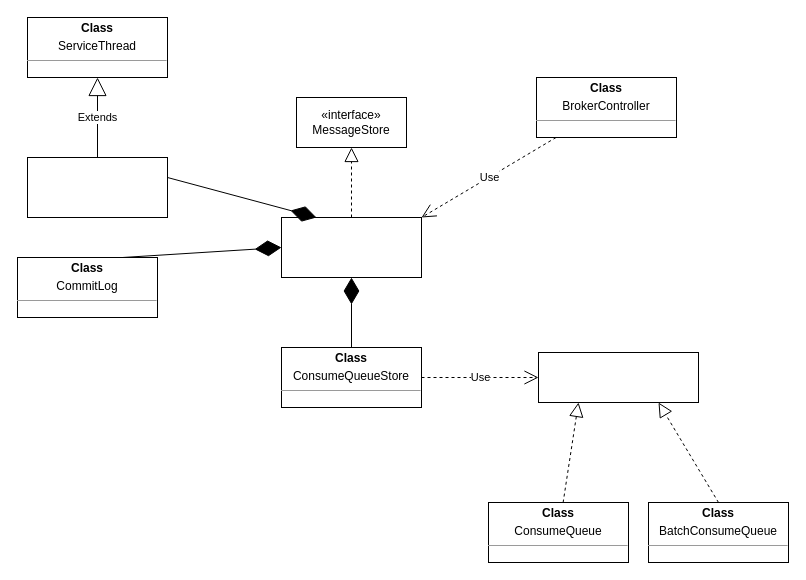
Image size: 806x580. Some labels were removed from this diagram. The shapes that lost their labels are listed below. From the top down, each one's centre as x and y in pixels, then its label:
[97,187]: Class ReputMessageService
[351,247]: Class DefaultMessageStore
[618,377]: «interface» ConsumeQueueInterface
